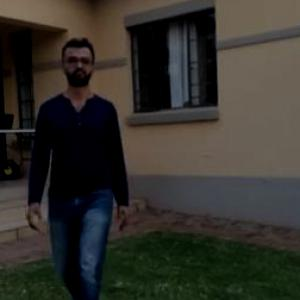follow: (23, 37, 130, 299)
